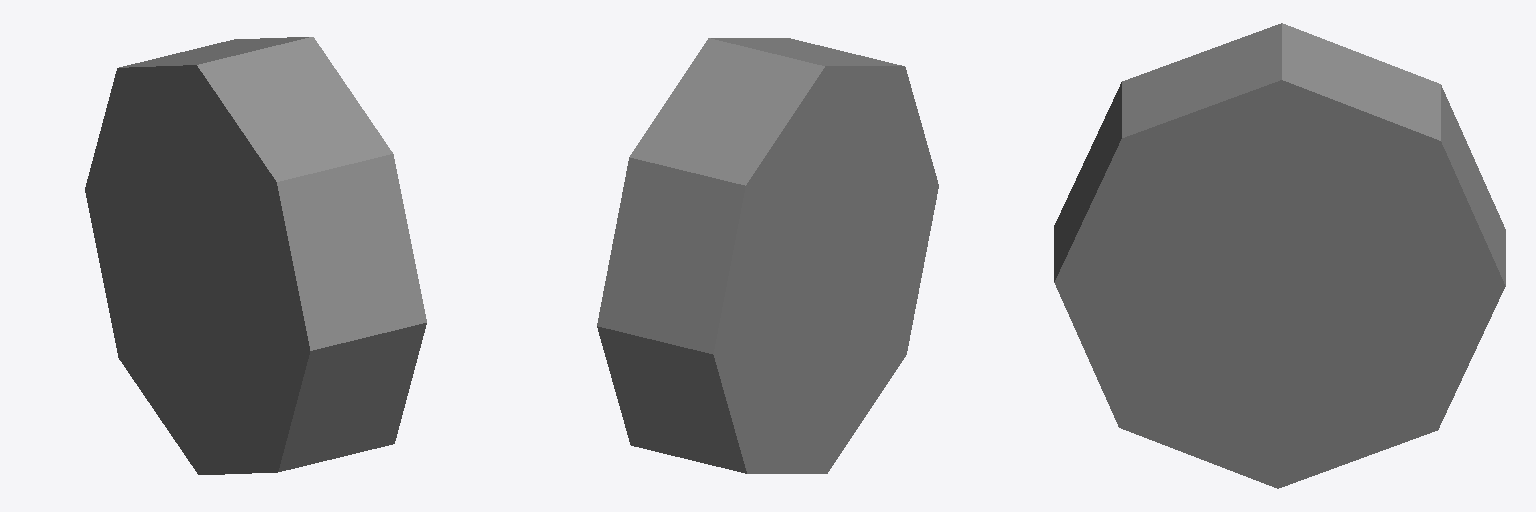
The model's file is Wheel.obj.
3 renders of one model, left to right at view 1: azimuth 30°, elevation 25°; view 2: azimuth 150°, elevation 25°; view 3: azimuth 270°, elevation 25°, orthographic.
Visible parts, largest first — view 1: Wheel; view 2: Wheel; view 3: Wheel.
Boxes of the visible parts, x1,y1,x2,y2 form: Wheel: [85, 37, 426, 474]; Wheel: [597, 38, 938, 473]; Wheel: [1054, 23, 1505, 488].
Bounding box in the file's own units: 0.2736 × 0.9172 × 0.9172.